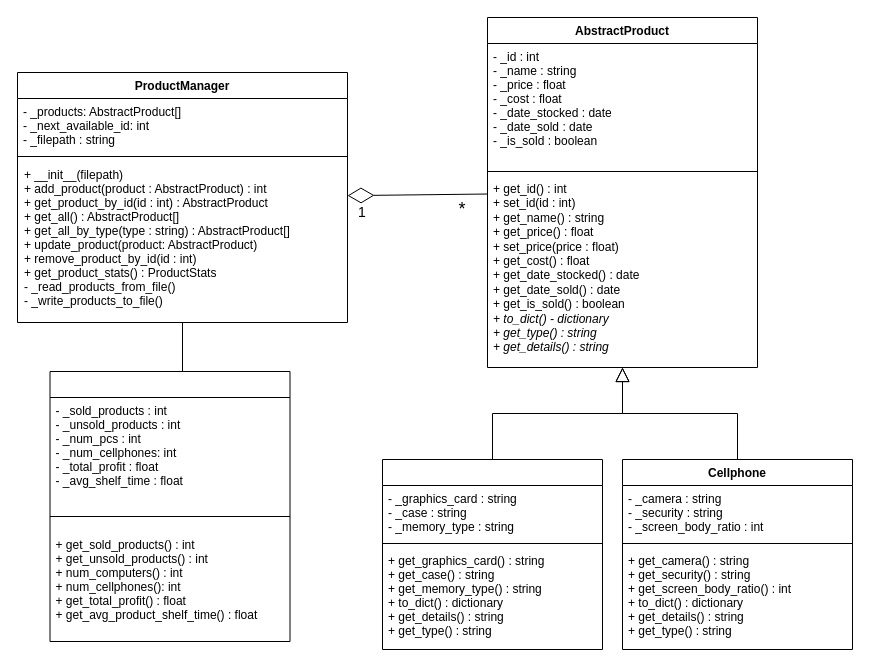
This 870x670 diagram has some shape labels left out. The box of each missing label's shape, as (x1, y1, x2, y2) in pixels:
Computer: (382, 458, 602, 650)
ProductStats: (49, 370, 290, 642)
